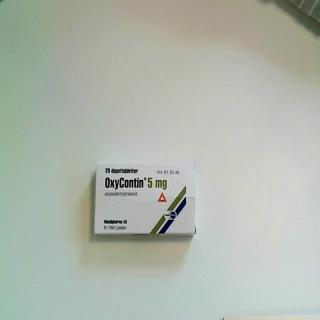oxycontin5mg: (94, 161, 198, 239)
